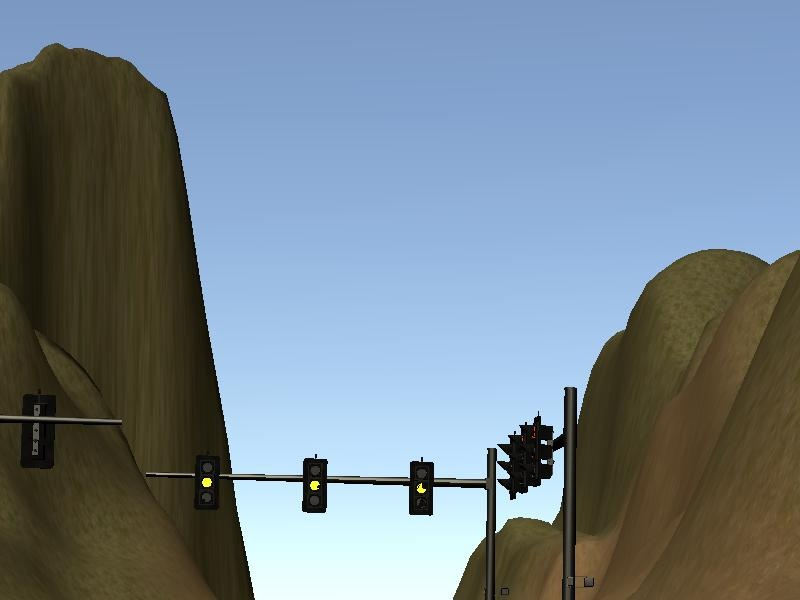yellow: (297, 449, 333, 515), (190, 449, 224, 512), (405, 453, 436, 520)
